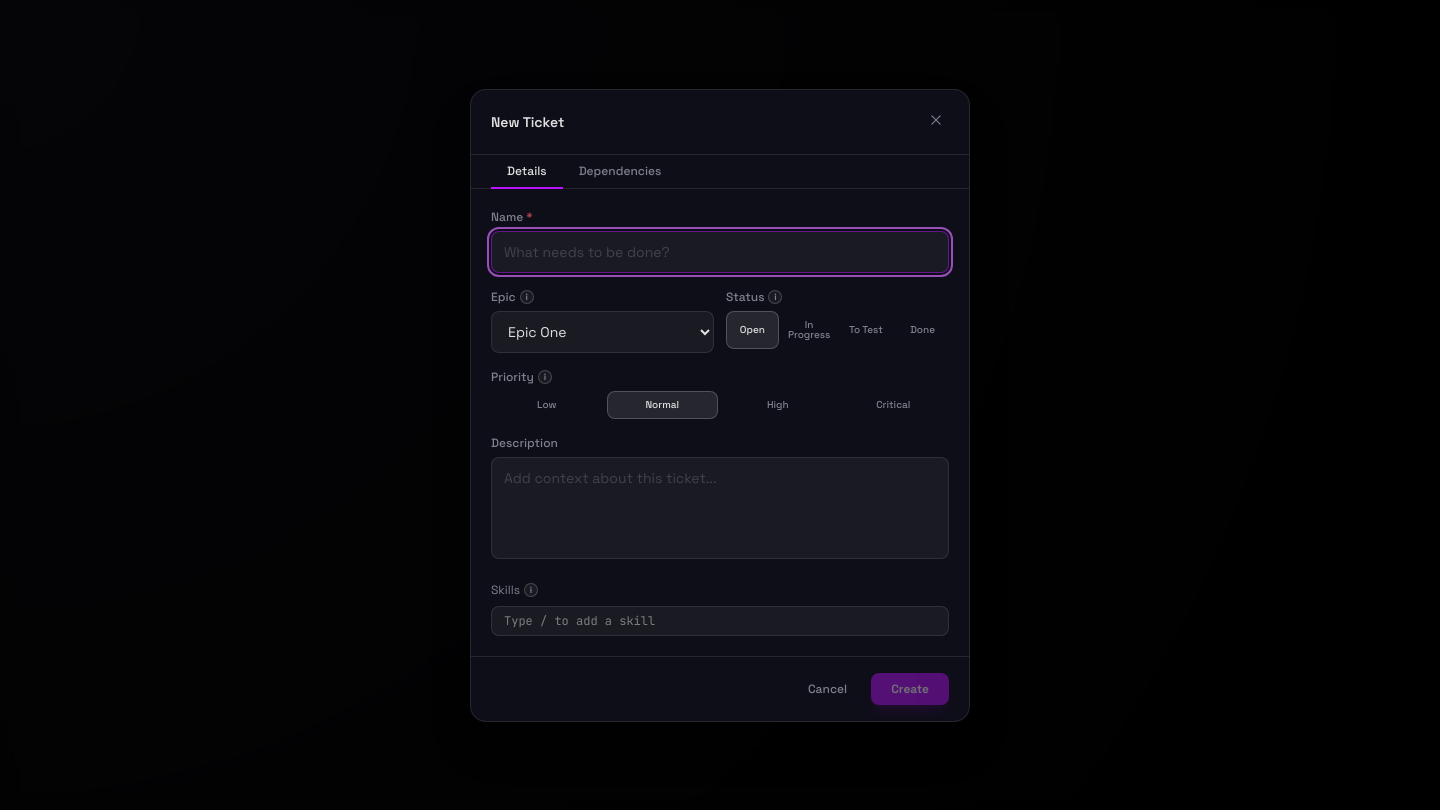
Test: TicketCreateModal › Create button is enabled when name is filled
In the field with placeholder "What needs to be done?": (720,252) [491, 230, 949, 272], type "My ticket"
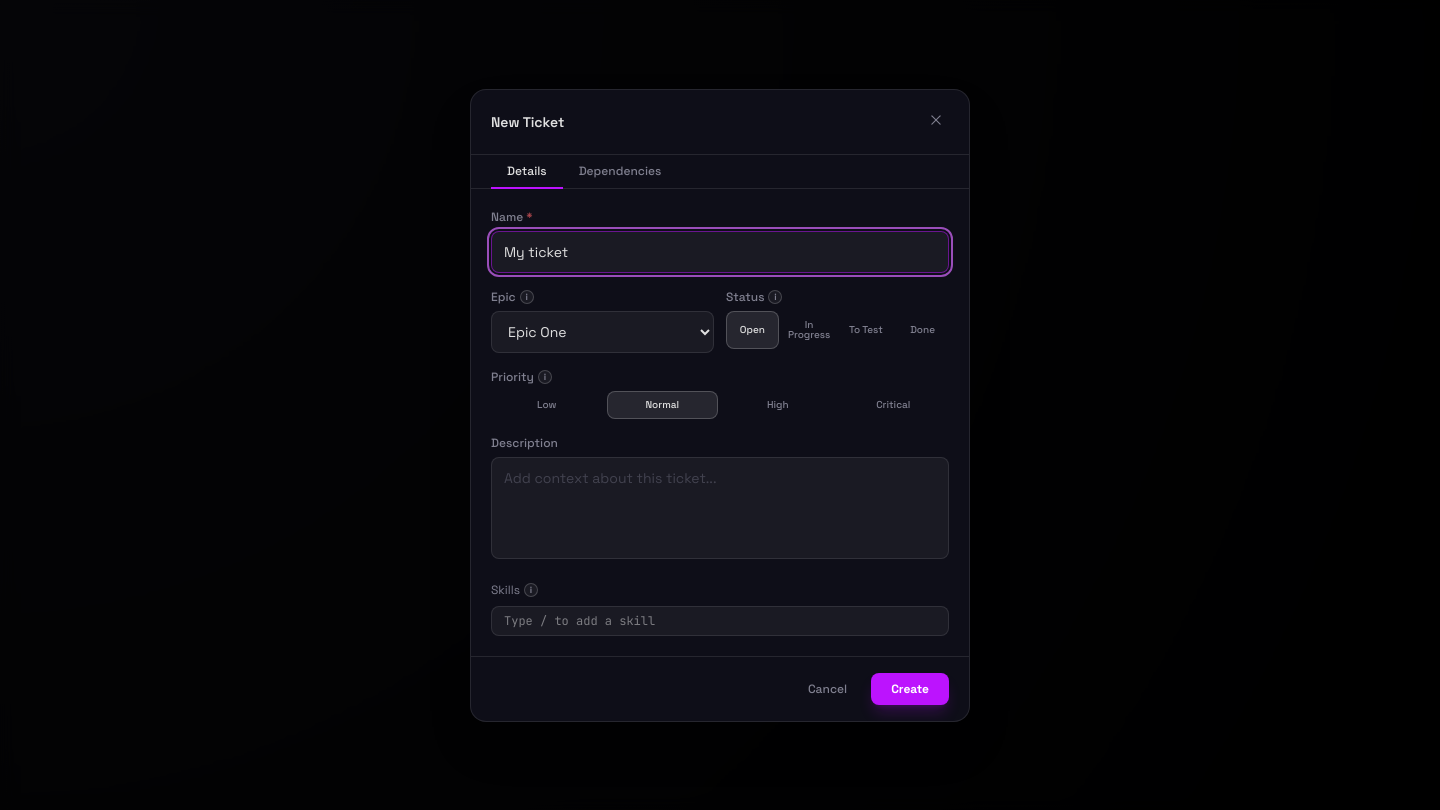
Expected: the button "Create" is enabled, [871, 672, 949, 704]
